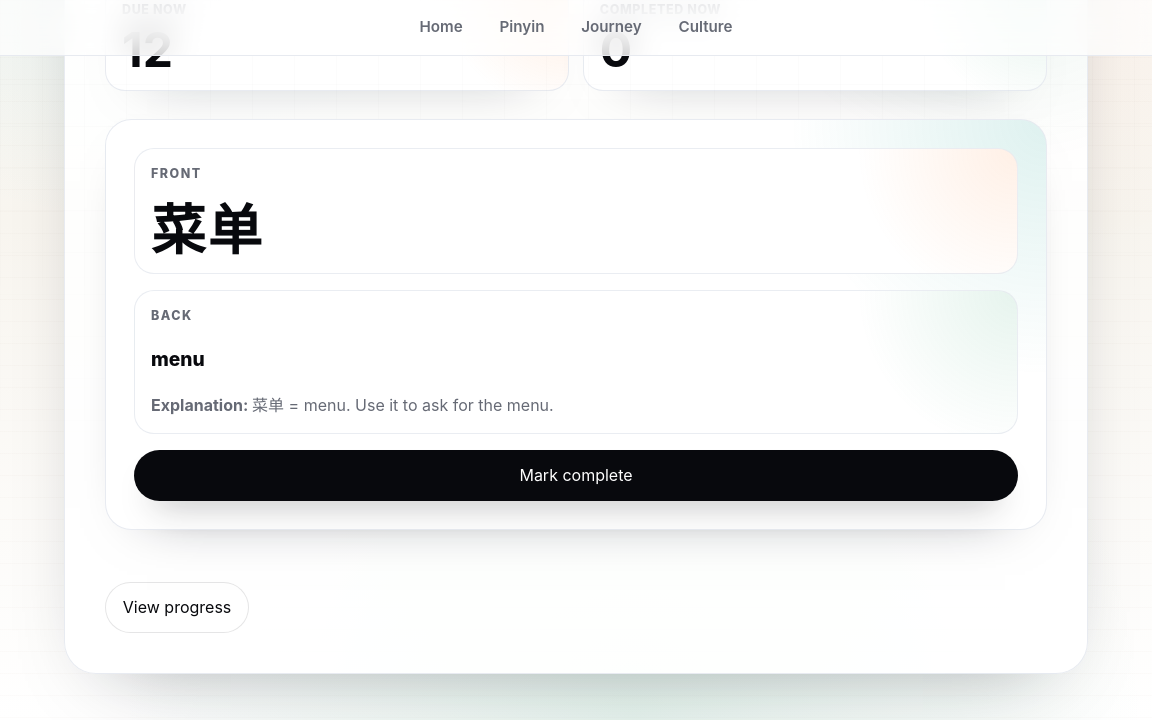
Test: ReviewPage › shows review cards enqueued by the new restaurant and train-station lessons
(page scrolled)
Expected: the element named "flashcard front" shows "菜单", [151,197,264,263]
Click the button "Mark complete": (576, 475) [134,450,1018,501]
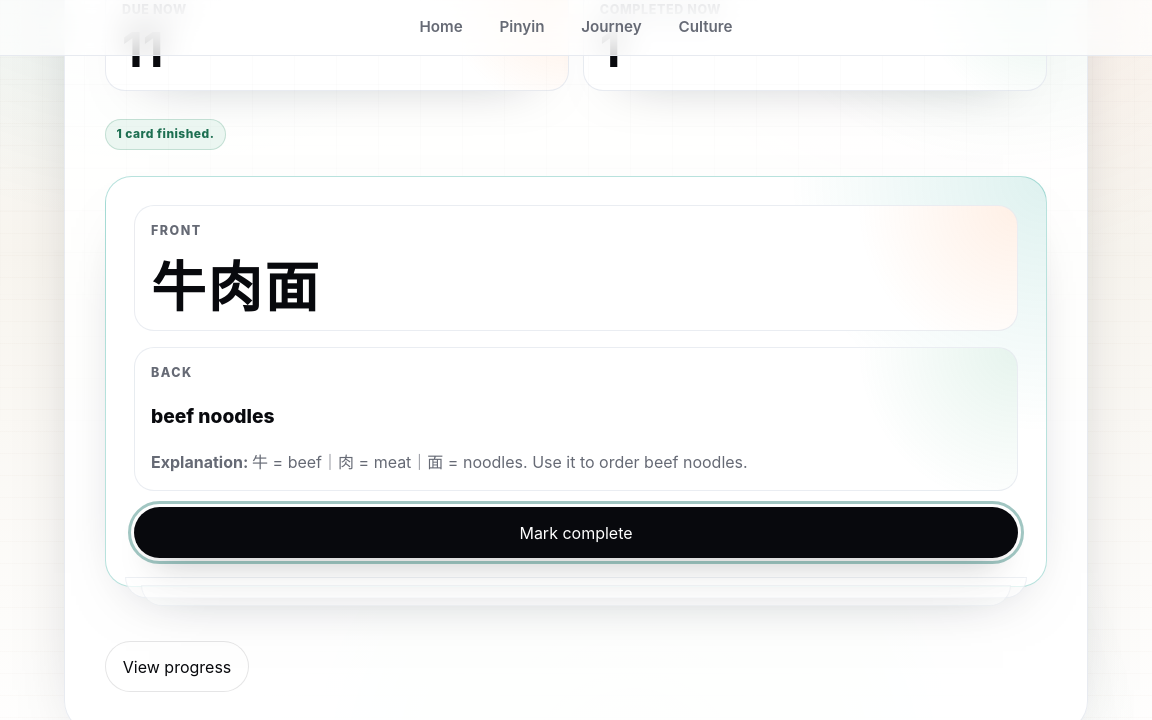
Click the button "Mark complete": (576, 533) [134,507,1018,558]
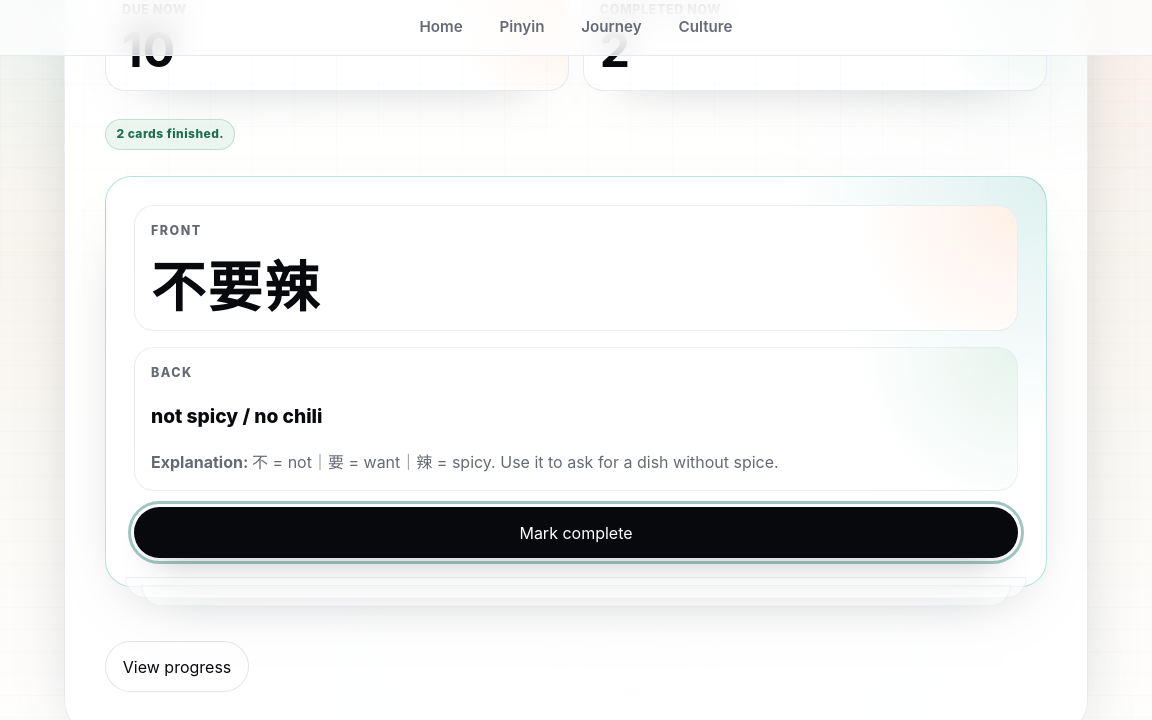
Click the button "Mark complete": (576, 533) [134,507,1018,558]
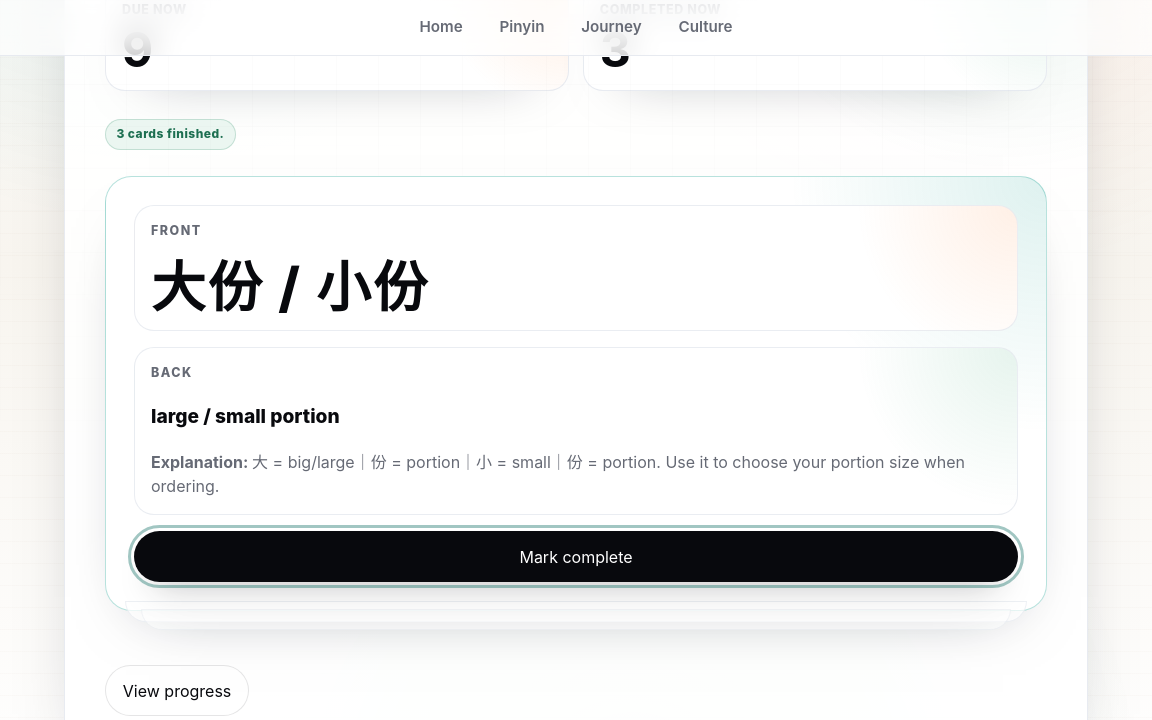
Click the button "Mark complete": (576, 557) [134,531,1018,582]
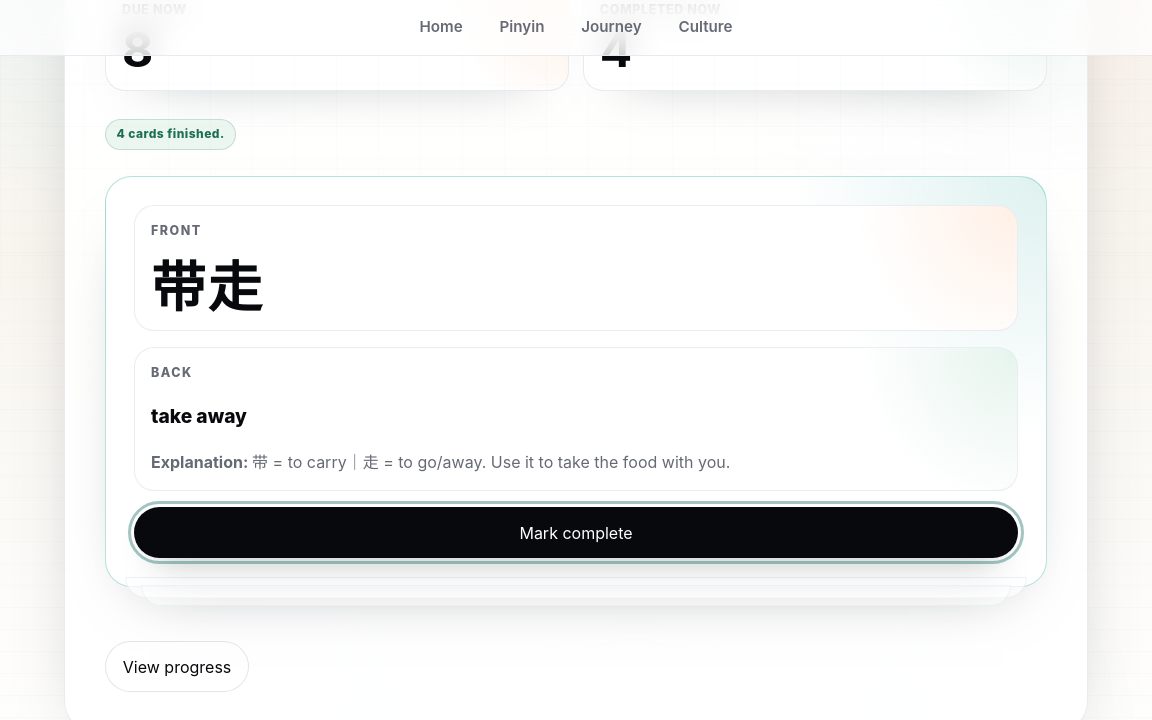
Click the button "Mark complete": (576, 533) [134,507,1018,558]
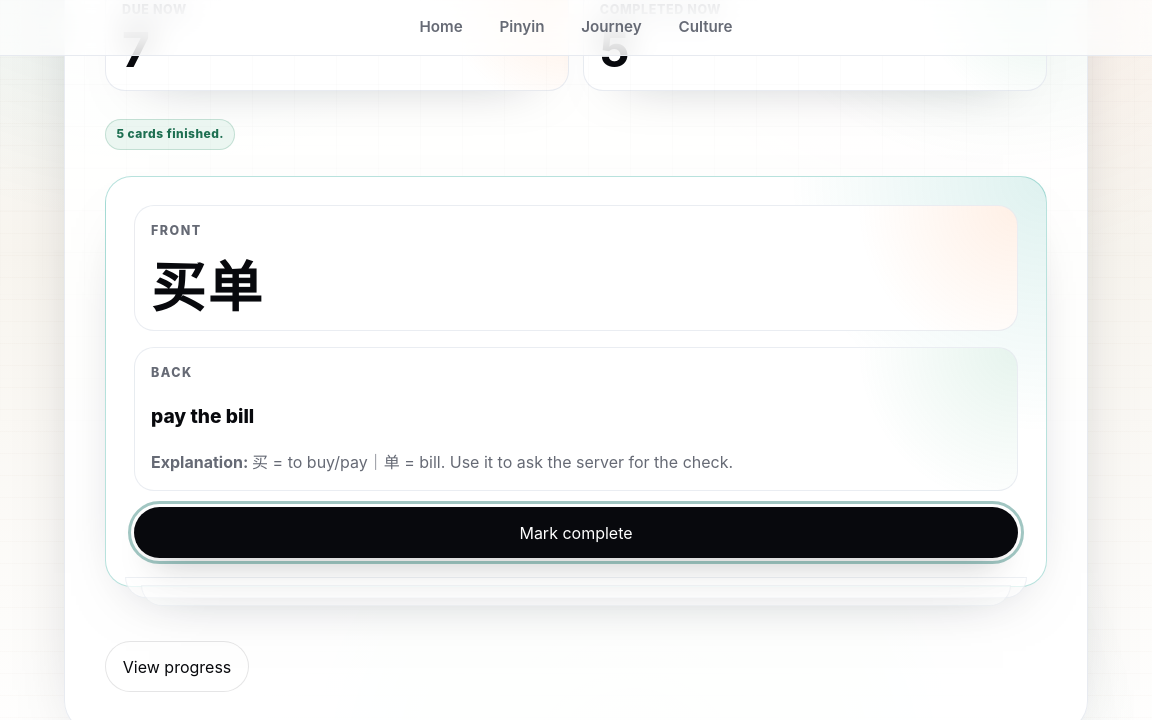
Click the button "Mark complete": (576, 533) [134,507,1018,558]
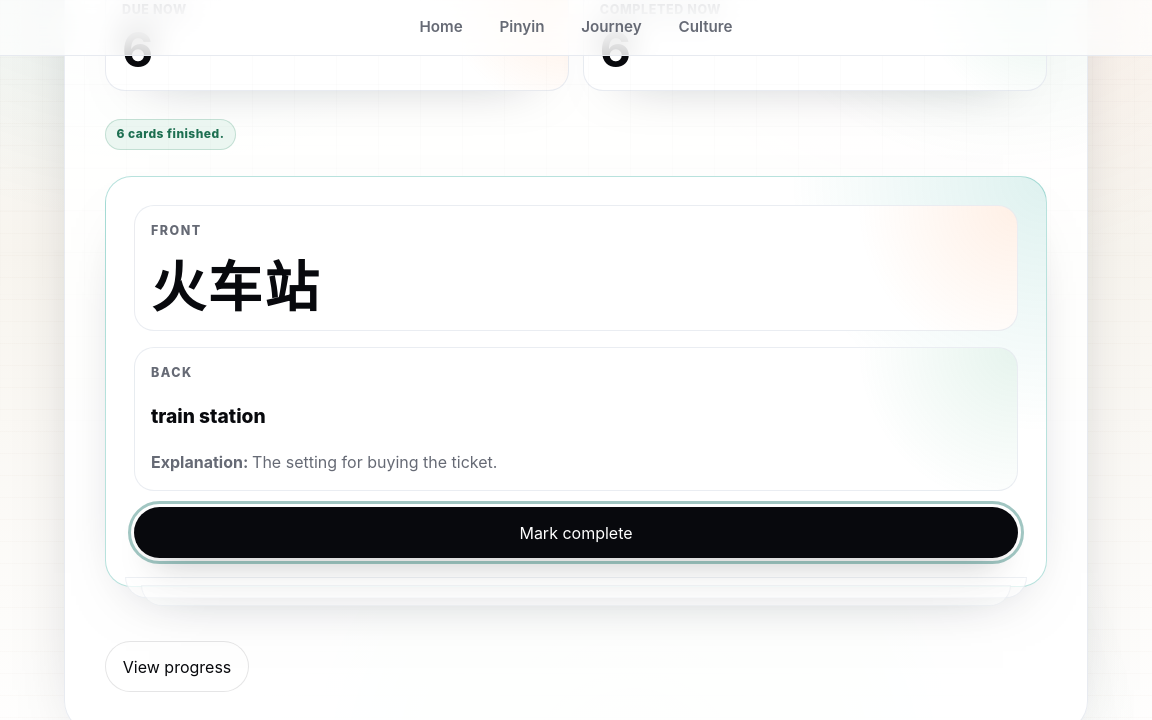
Expected: the element named "flashcard front" shows "火车站", [151,254,321,320]
